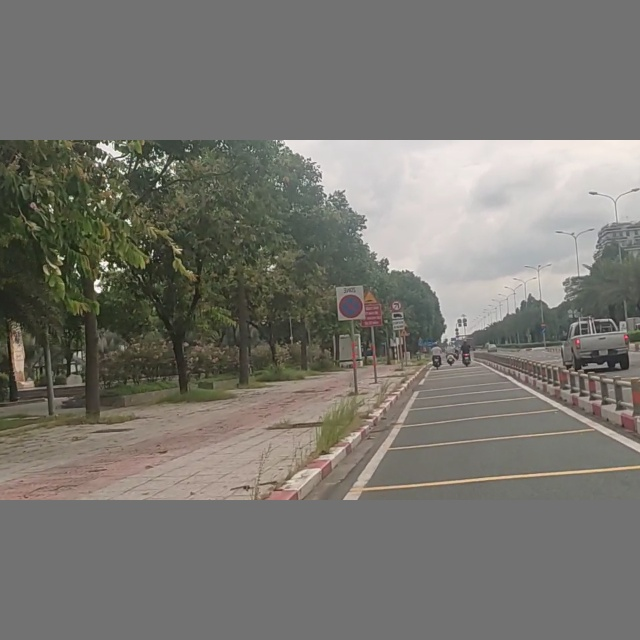P.123b: (390, 300, 403, 312)
P.130: (335, 285, 365, 321)
S.505a*Xe tai: (391, 311, 406, 332)
